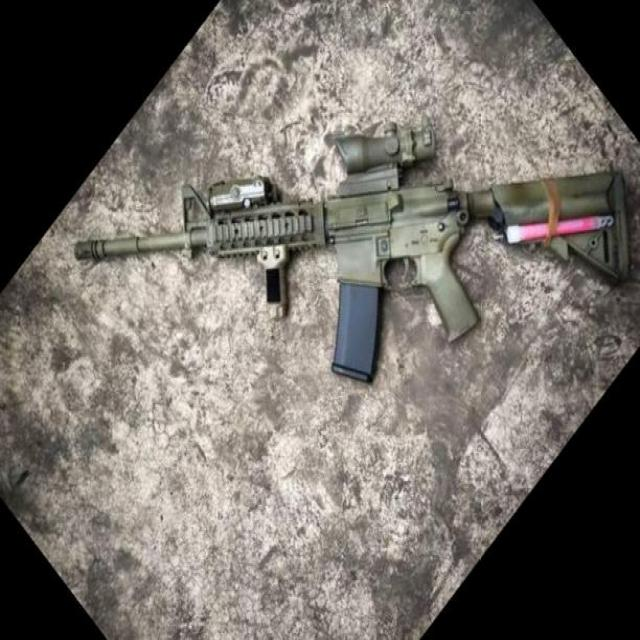heavy-weapon: (73, 120, 632, 386)
